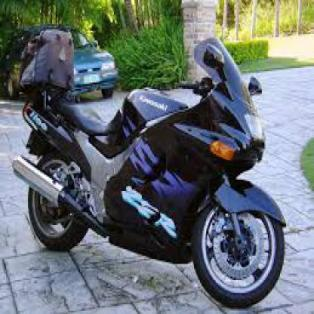Motocicleta: (21, 42, 286, 307)
